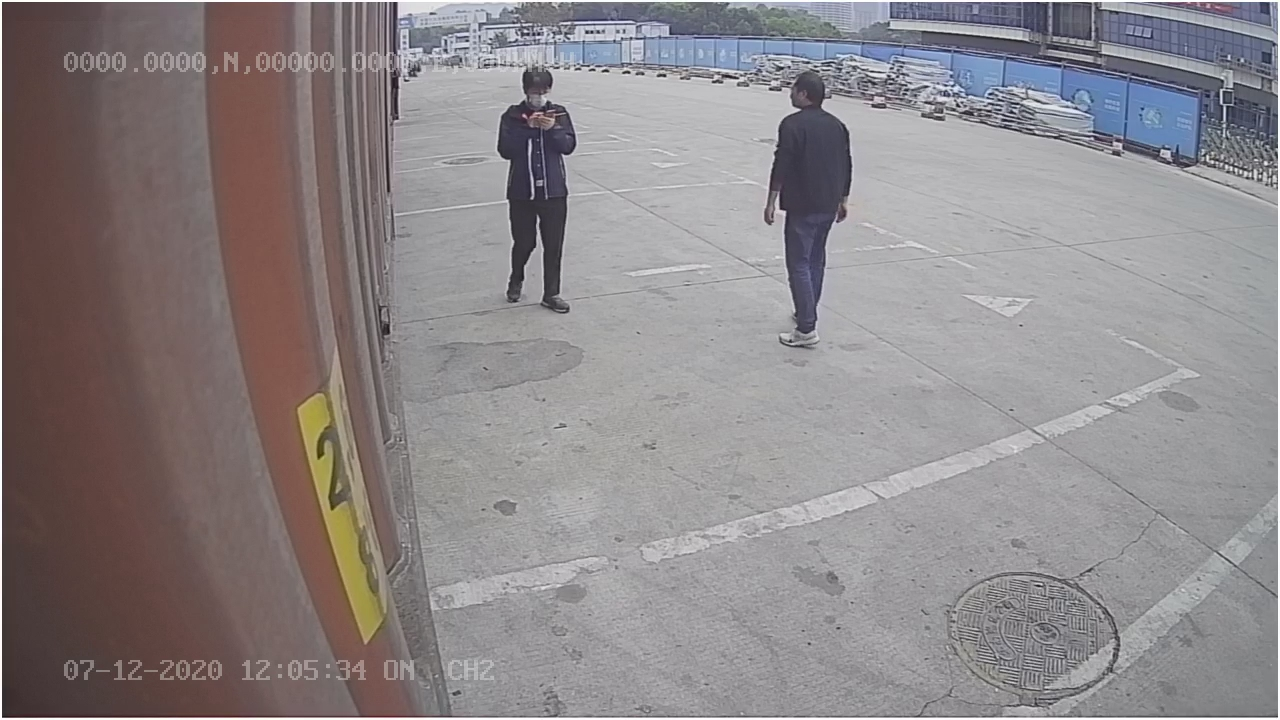person: (759, 67, 857, 353), (492, 64, 582, 316)
